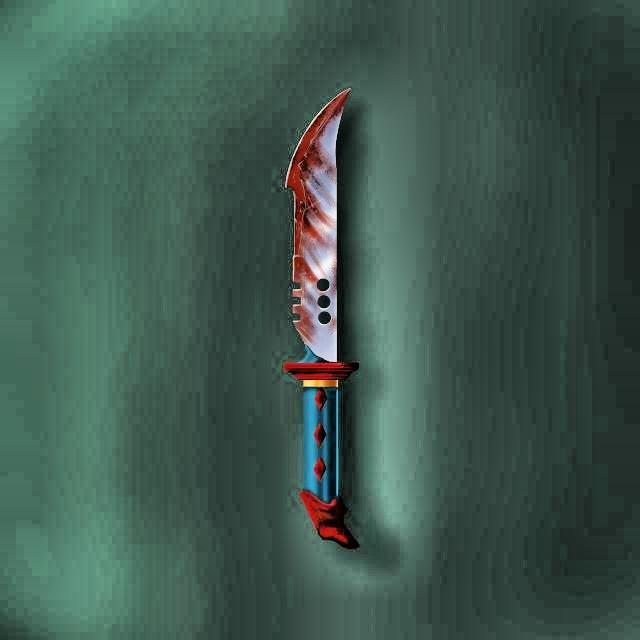knife: (278, 84, 362, 556)
